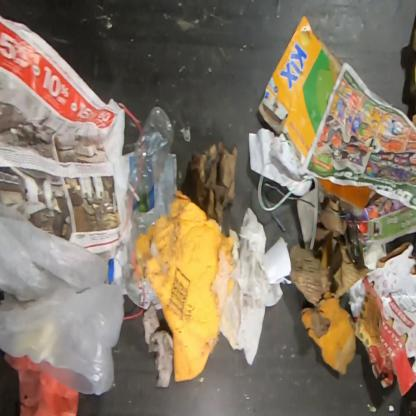cardboard: (134, 189, 236, 382), (256, 13, 346, 168), (348, 242, 415, 399), (289, 184, 369, 307), (299, 291, 382, 375), (189, 142, 242, 233)
rigid_plastic: (124, 103, 176, 204), (131, 210, 157, 240)
soft_plastic: (0, 202, 126, 397)
